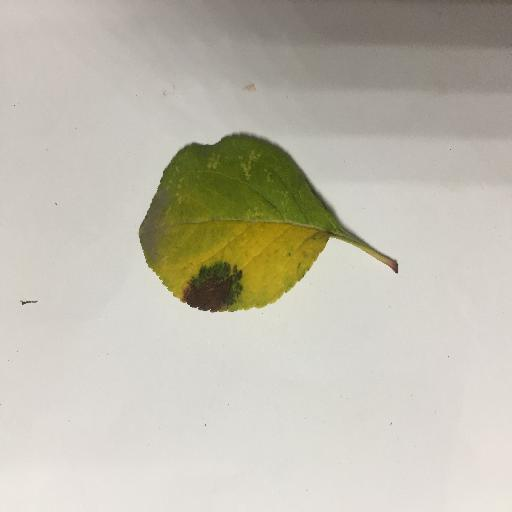Brown_Spot: (180, 261, 241, 306)
